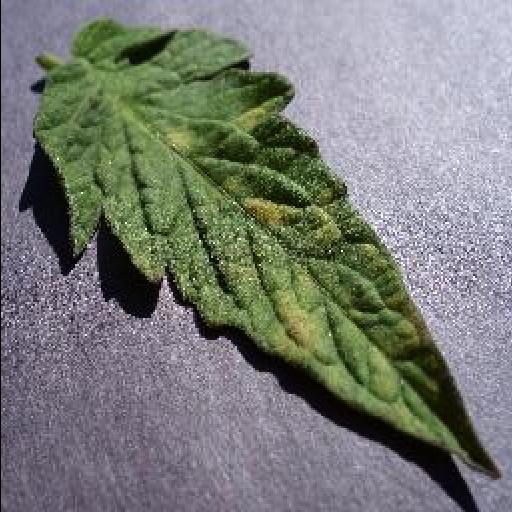disease_tomato: (32, 23, 504, 483)
